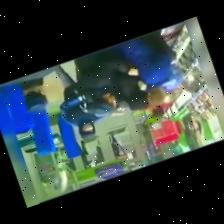person: (76, 48, 138, 115), (119, 31, 173, 104), (56, 65, 103, 138)
